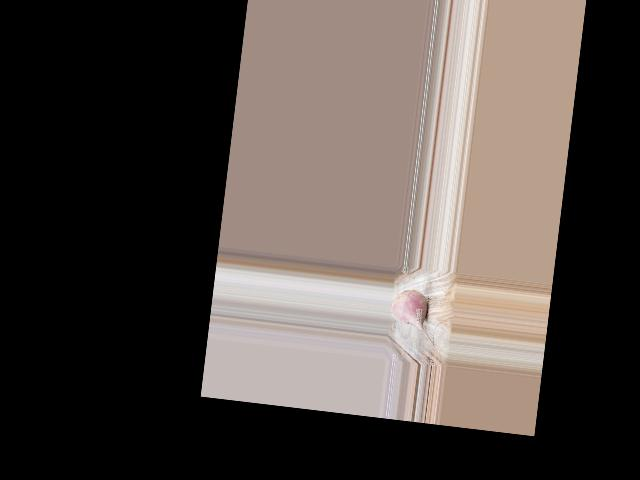beet: (388, 288, 439, 345)
